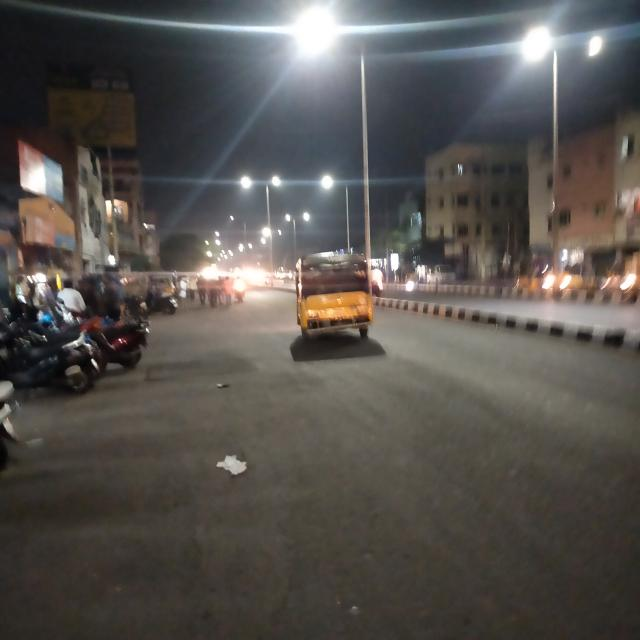Bike: (0, 315, 106, 401), (54, 299, 153, 373), (0, 372, 26, 476), (141, 284, 179, 317), (121, 288, 152, 320), (228, 274, 248, 308)
tempo: (289, 242, 381, 348), (139, 268, 182, 310), (423, 259, 460, 287)
